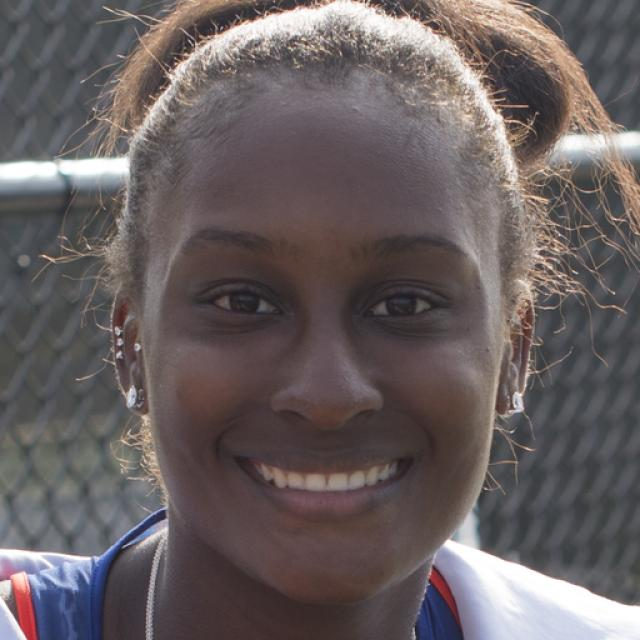Dark Circle: (203, 309, 288, 343), (362, 314, 449, 342)
